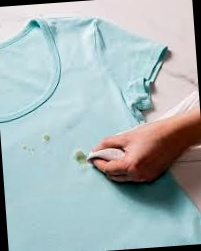oil: (71, 147, 87, 168), (40, 132, 53, 146), (20, 145, 36, 155)
